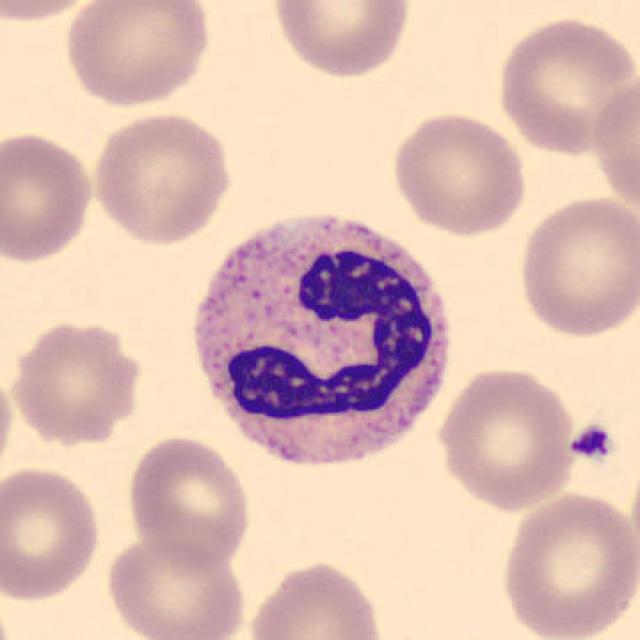Neutrophil: (176, 196, 464, 487)
Platelets: (567, 419, 615, 464)
RBC: (434, 363, 580, 513), (496, 488, 638, 640), (87, 107, 237, 247), (492, 12, 636, 157), (5, 316, 150, 446), (388, 108, 530, 238), (514, 192, 638, 340), (124, 430, 254, 571), (58, 0, 215, 109), (101, 534, 251, 640), (0, 462, 105, 605), (0, 127, 98, 266), (243, 555, 389, 640), (267, 0, 416, 81), (588, 70, 638, 220), (0, 0, 110, 25)
